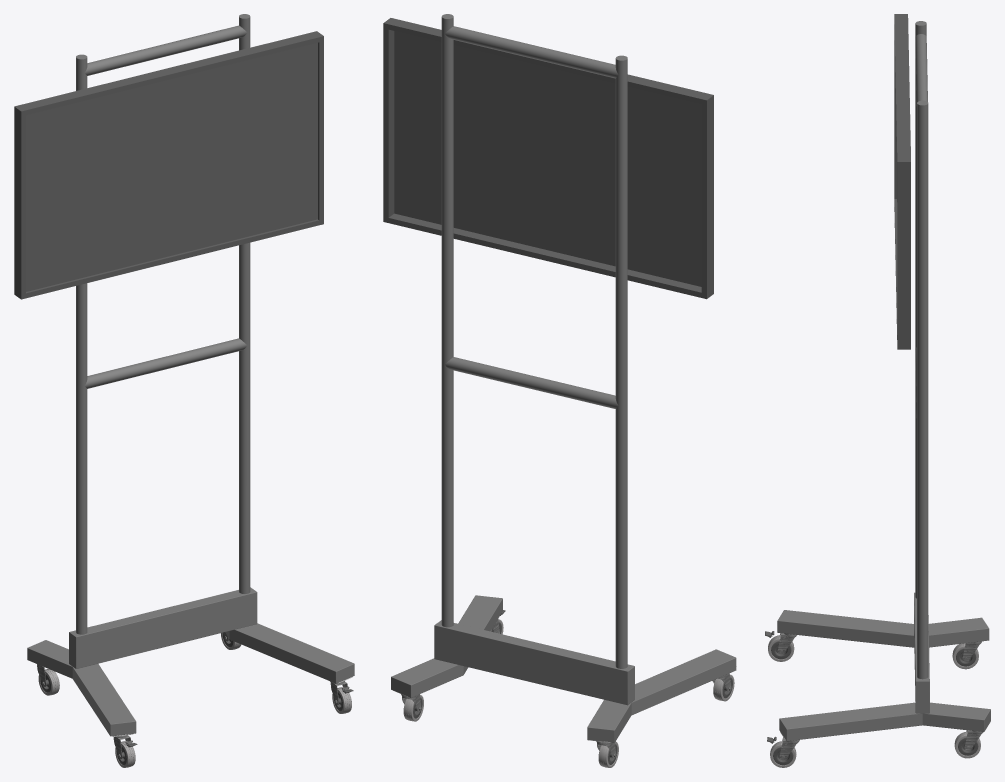
The picture shows the model from 3 angles, left to right: view 1: azimuth 30°, elevation 25°; view 2: azimuth 150°, elevation 25°; view 3: azimuth 270°, elevation 25°; orthographic projection. The views are drawn at different scales.
Parts seen in each view (by area): view 1: tv; view 2: tv; view 3: tv.
Part boxes in pixels (left/top/right/bottom): tv: left=14, top=14, right=354, bottom=767; tv: left=383, top=14, right=736, bottom=767; tv: left=765, top=14, right=990, bottom=767.
Size of the model in its own units: 99.09 by 203 by 63.88.
Materials: 9 (1 with a texture image).
